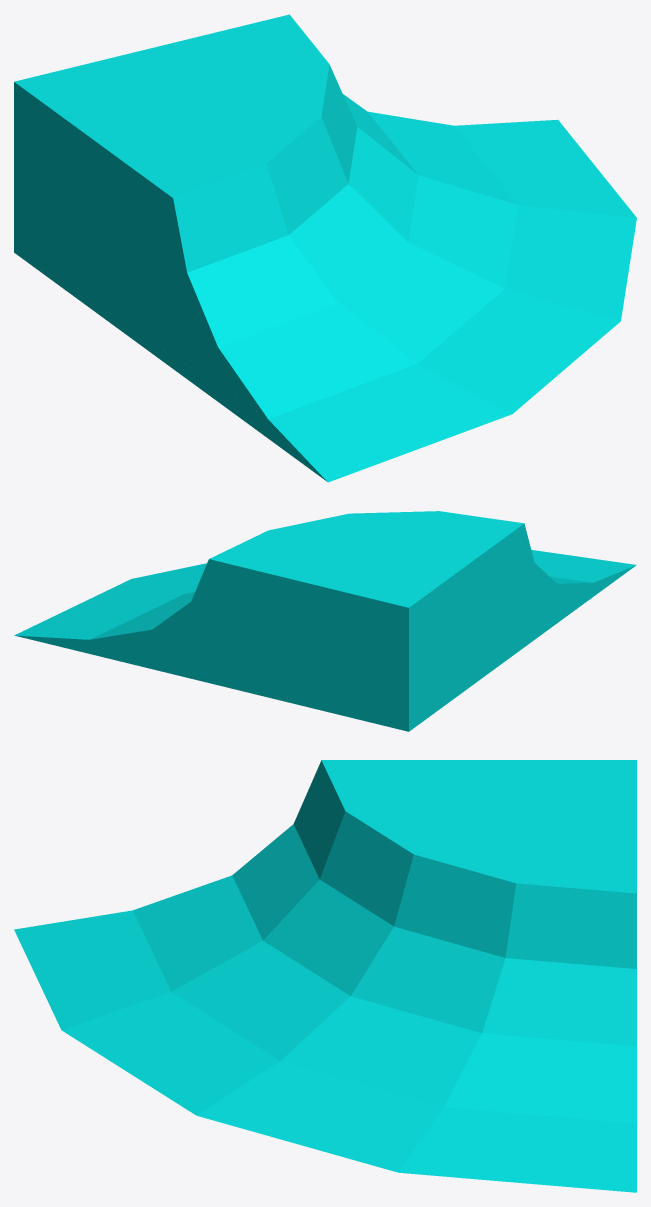
Rendered from SM_Env_Ramp_Curve_S_L_01_Collision.fbx.
The picture shows the model from 3 angles, top to bottom: view 1: azimuth 30°, elevation 25°; view 2: azimuth 150°, elevation 25°; view 3: azimuth 270°, elevation 25°; orthographic projection. The views are drawn at different scales.
Parts seen in each view (by area): view 1: SM_Env_Ramp_Curve_S_L_01_Collision; view 2: SM_Env_Ramp_Curve_S_L_01_Collision; view 3: SM_Env_Ramp_Curve_S_L_01_Collision.
Boxes of the visible parts, x1,y1,x2,y2 form: SM_Env_Ramp_Curve_S_L_01_Collision: (14,14,636,482); SM_Env_Ramp_Curve_S_L_01_Collision: (14,511,636,731); SM_Env_Ramp_Curve_S_L_01_Collision: (14,760,636,1192).
Bounding box in the file's own units: 250 × 75 × 250.
